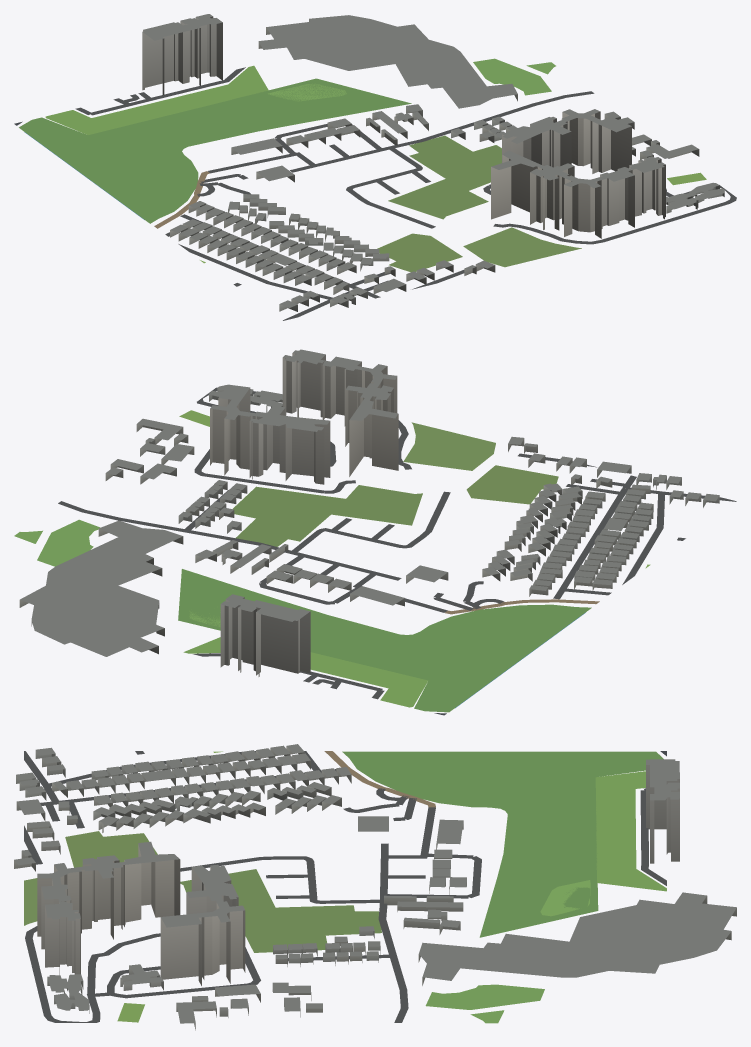
The picture shows the model from 3 angles, top to bottom: view 1: azimuth 30°, elevation 25°; view 2: azimuth 150°, elevation 25°; view 3: azimuth 270°, elevation 25°; orthographic projection. The views are drawn at different scales.
Visible parts, largest first — view 1: building, ground; view 2: building, ground; view 3: building, ground.
Part boxes in pixels (bbox=[...]): building: bbox=[142, 14, 724, 311]; ground: bbox=[14, 58, 736, 320]; building: bbox=[19, 349, 719, 676]; ground: bbox=[14, 387, 736, 715]; building: bbox=[14, 744, 736, 1030]; ground: bbox=[24, 751, 666, 1023].
Size of the model in its own units: 516 by 59.95 by 562.
